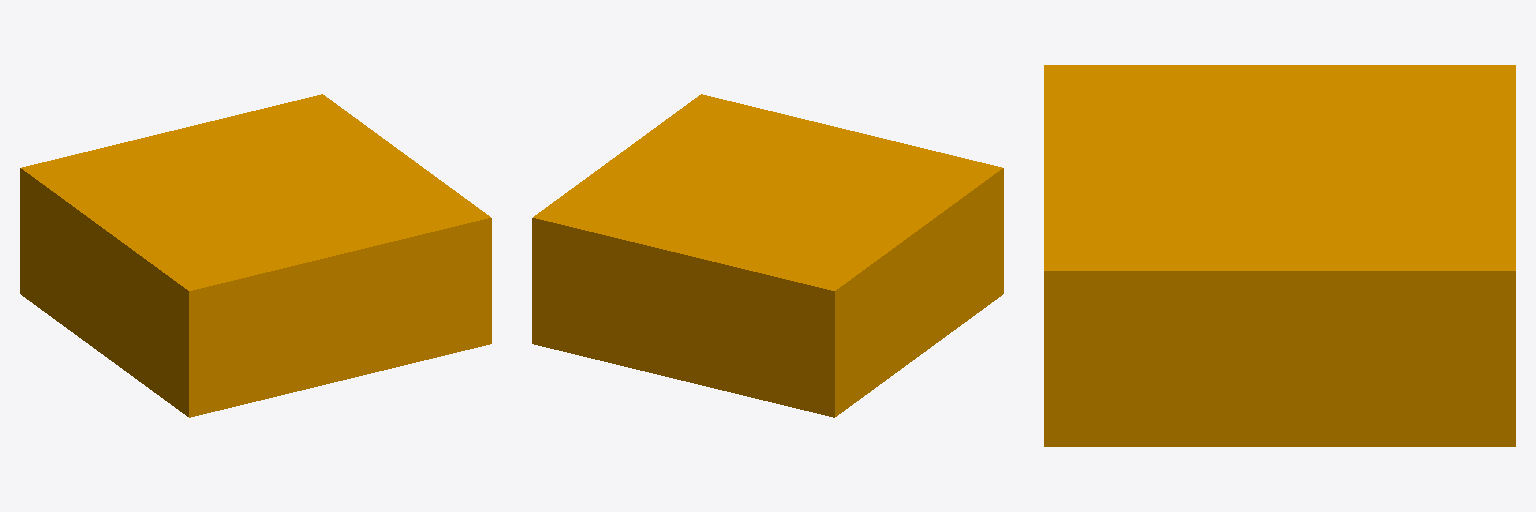
The robot description file, URDF, robot "2x2":
<?xml version='1.0' encoding='UTF-8'?>
<robot name="2x2">
  <link name="base_link">
    <inertial>
      <origin xyz="0.0 0.0 0.0" rpy="0.0 0.0 0.0"/>
      <mass value="0.01"/>
      <inertia ixx="0.1" ixy="0.0" ixz="0.0" iyy="0.1" iyz="0.0" izz="0.1"/>
    </inertial>
    <visual>
      <geometry>
        <box size="0.03  0.029 0.012"/>
      </geometry>
      <material name=""/>
      <origin xyz="0.0 0.0 0.0" rpy="0.0 0.0 0.0"/>
    </visual>
    <collision>
      <geometry>
        <box size="0.03  0.029 0.012"/>
      </geometry>
      <origin xyz="0.0 0.0 0.0" rpy="0.0 0.0 0.0"/>
    </collision>
  </link>
  <material name="">
    <color rgba="0.407 0.019 0.461 1.   "/>
  </material>
  <contact>
    <lateral_friction value="1.0"/>
    <rolling_friction value="0.0"/>
    <contact_cfm value="0.0"/>
    <contact_erp value="1.0"/>
  </contact>
</robot>

--- What the picture shows (computed from the rendered views, not written in the file) ---
3 views of the same robot in one strip: view 1: azimuth 30°, elevation 25°; view 2: azimuth 150°, elevation 25°; view 3: azimuth 270°, elevation 25° (orthographic).
Model 2x2 with 1 links and 0 joints (none), rooted at base_link, posed all joints at 0.
Visible links, largest first — view 1: base_link; view 2: base_link; view 3: base_link.
Link boxes in pixels (x1,y1,x2,y2): base_link: (20,94,491,417); base_link: (532,94,1003,417); base_link: (1044,65,1515,446).
Bounding box of the posed robot: 0.03 × 0.029 × 0.012 m (x, y, z).
Geometry: primitives only (box / cylinder / sphere), no mesh files.